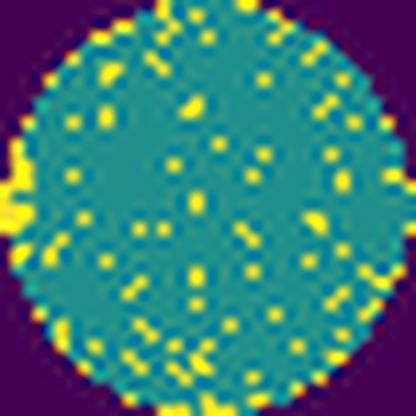Edge-Loc: (0, 135, 43, 241), (198, 390, 246, 416)
